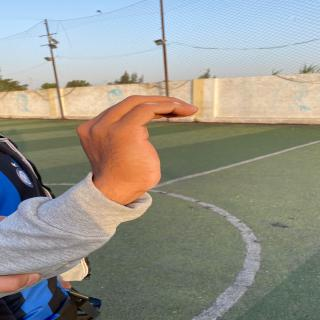HAA: (67, 80, 212, 201)
